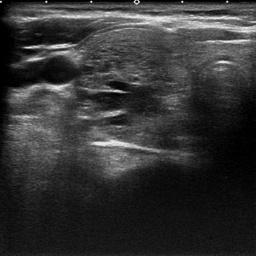mass: (73, 32, 174, 115)
